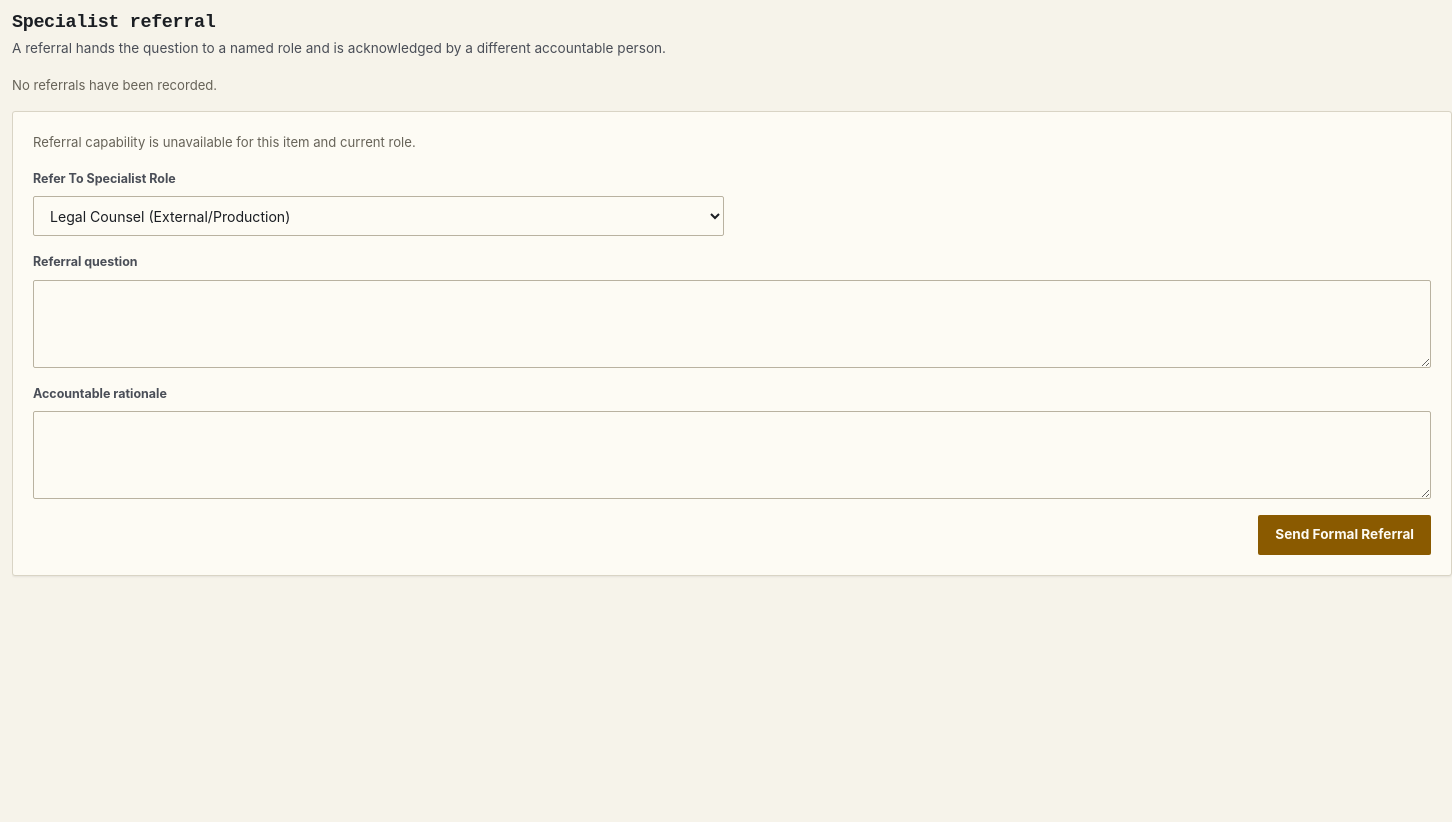
Scenario: ReferralCard authoritative submission › preserves referral inputs when a stale conflict rejects the command
Type "Does this source resolve the identity conflict?" into the text box labelled "Referral question".
click(732, 324); type("Does this source resolve the identity conflict?")  # box [33,280,1431,368]
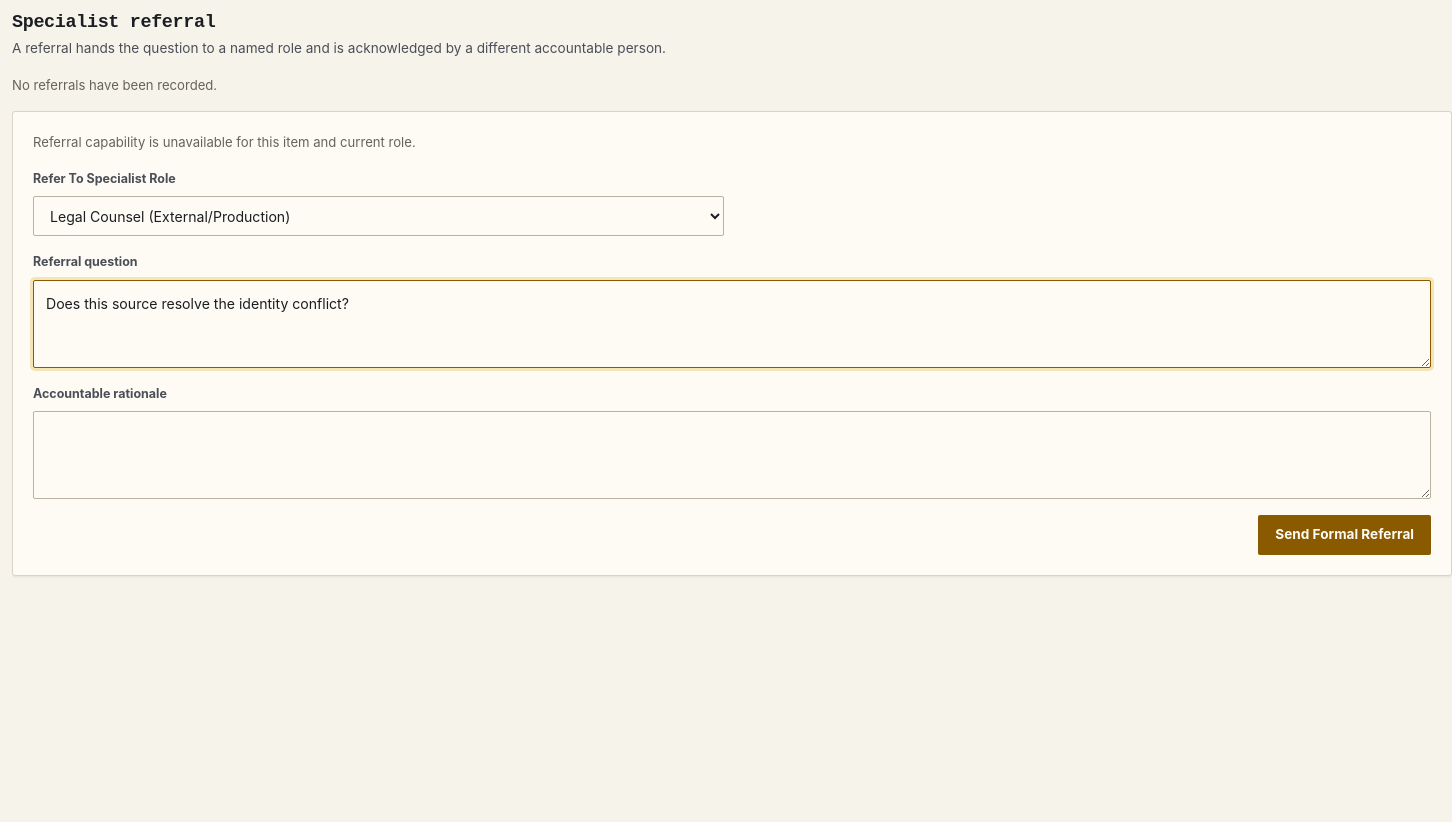
Type "A specialist must assess the cited record." into the text box labelled "Accountable rationale".
click(732, 455); type("A specialist must assess the cited record.")  # box [33,411,1431,499]
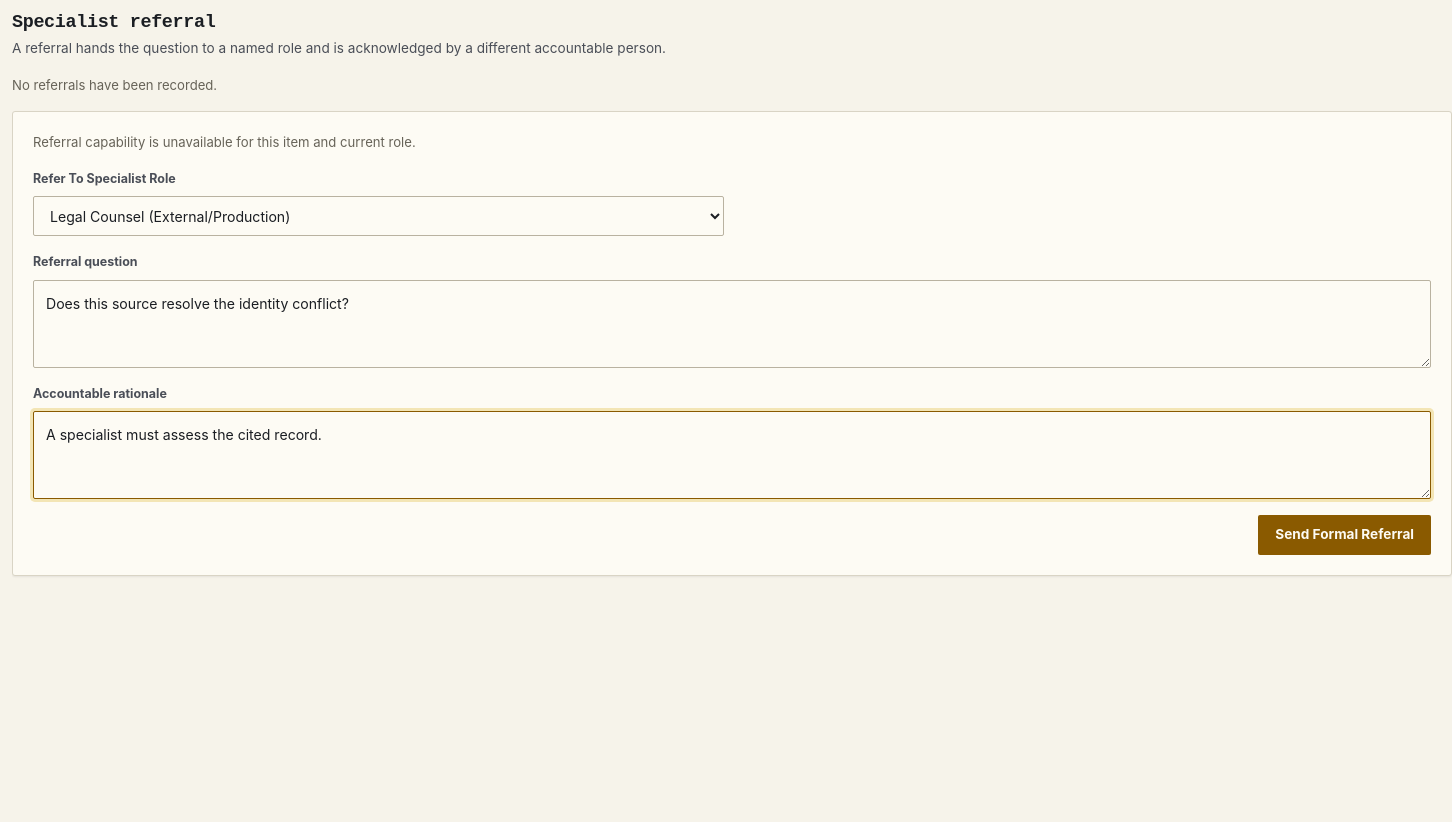
Click the button "Send Formal Referral".
click(1345, 535)  # box [1258,515,1431,555]
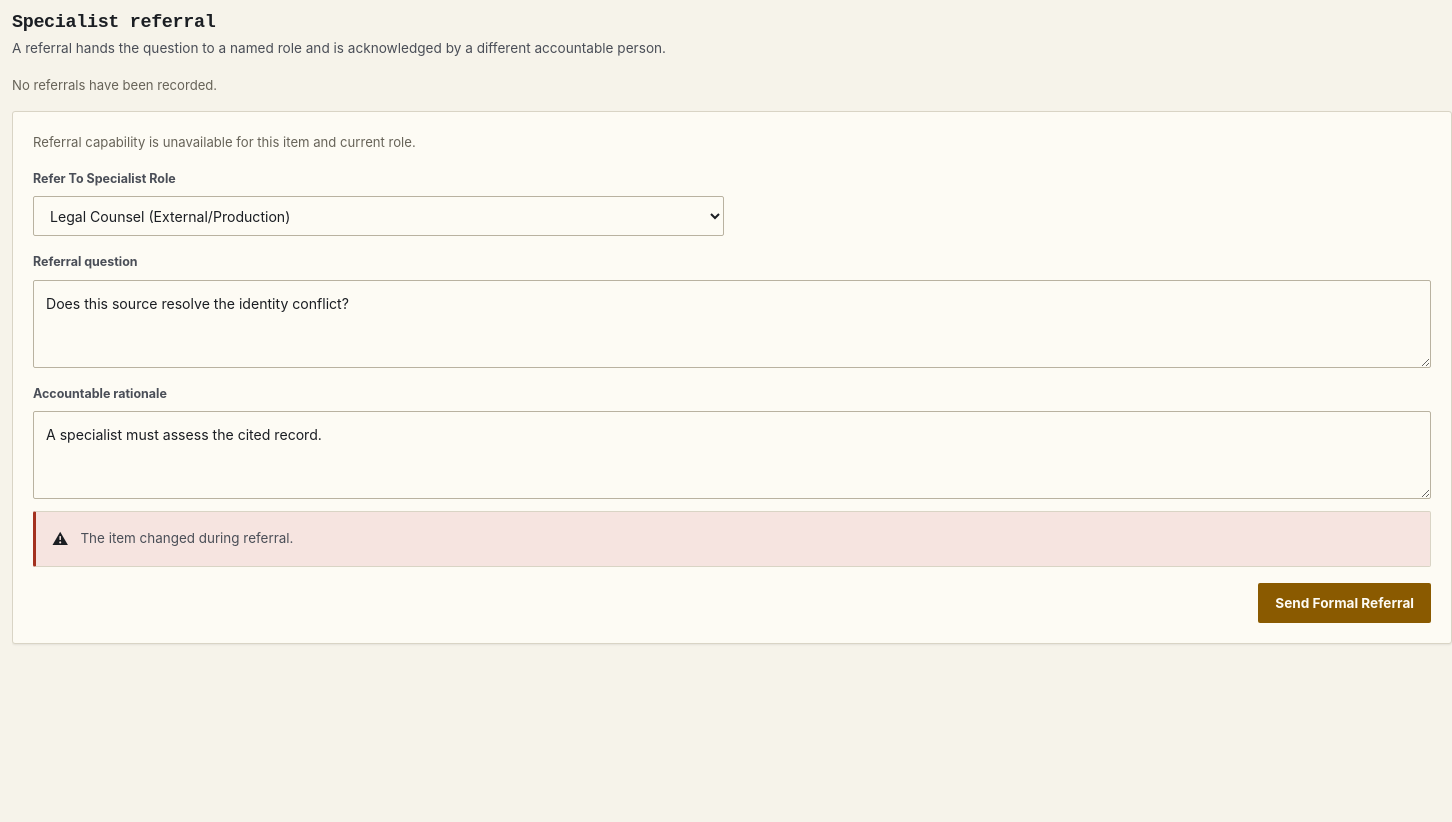
expect the message shows "item changed": met, box [80,530,293,546]
